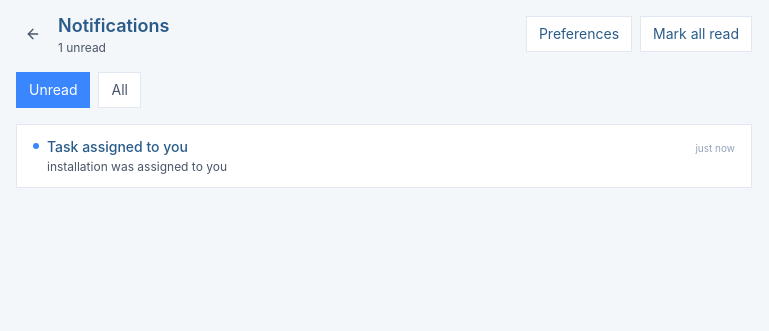
NotificationsPage › opens preferences panel
The width and height of the screenshot is (769, 331).
Click the button "Preferences": coordinates (579, 34) [526,16,632,52]
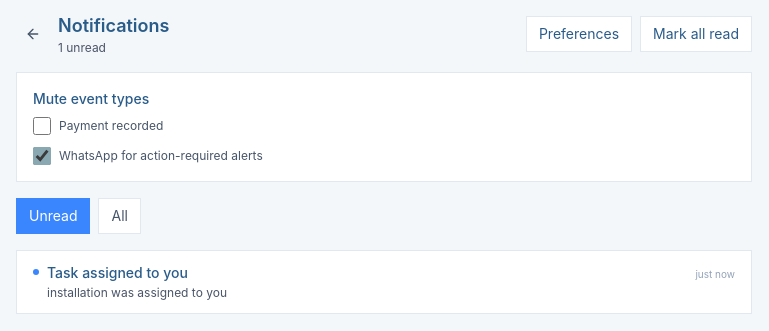
Now the text "Mute event types" is shown, box [33,90,149,107]
Now the text "Payment recorded" is shown, box [59,118,163,134]
